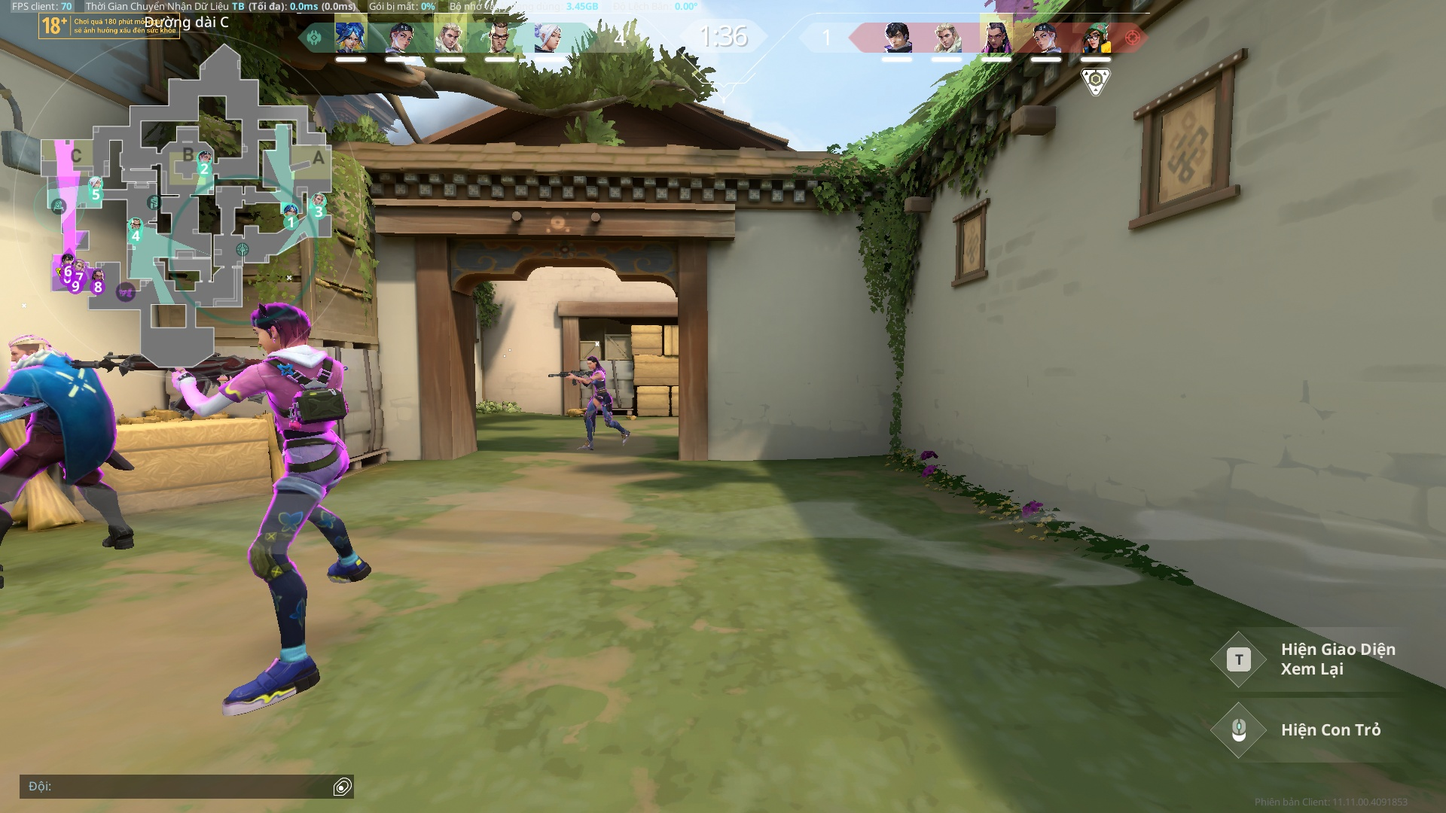body: (255, 349, 346, 437), (14, 363, 109, 428), (590, 369, 609, 393)
head: (251, 303, 302, 351), (10, 330, 48, 370), (585, 356, 598, 370)
